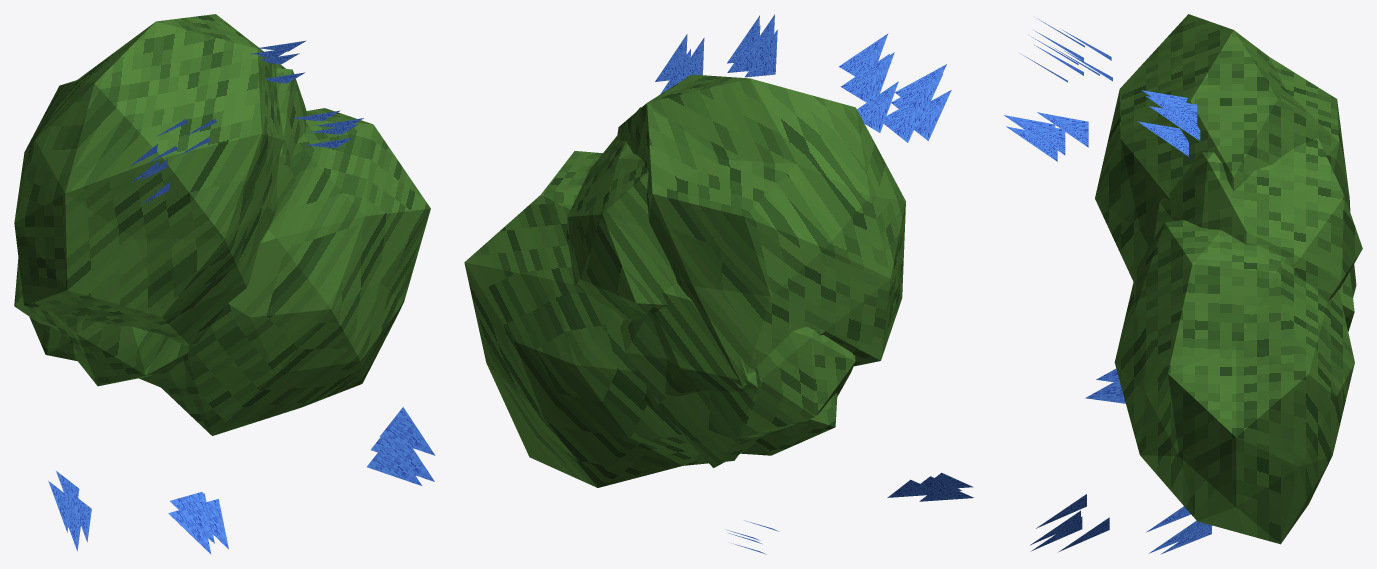
The model's file is herb_blueleaf_bush.glb.
The picture shows the model from 3 angles, left to right: view 1: azimuth 30°, elevation 25°; view 2: azimuth 150°, elevation 25°; view 3: azimuth 270°, elevation 25°; orthographic projection.
Parts seen in each view (by area): view 1: leaves, fruit_blue_leaves; view 2: leaves, fruit_blue_leaves; view 3: leaves, fruit_blue_leaves.
Boxes of the visible parts, x1=… form: leaves: x1=14, y1=14, x2=430, y2=435; fruit_blue_leaves: x1=48, y1=40, x2=435, y2=554; leaves: x1=464, y1=74, x2=905, y2=487; fruit_blue_leaves: x1=655, y1=14, x2=973, y2=554; leaves: x1=1095, y1=14, x2=1362, y2=544; fruit_blue_leaves: x1=1004, y1=18, x2=1212, y2=554.
Bounding box in the file's own units: 1.26 × 1.45 × 0.9135.
Materials: 2 (2 with a texture image).
